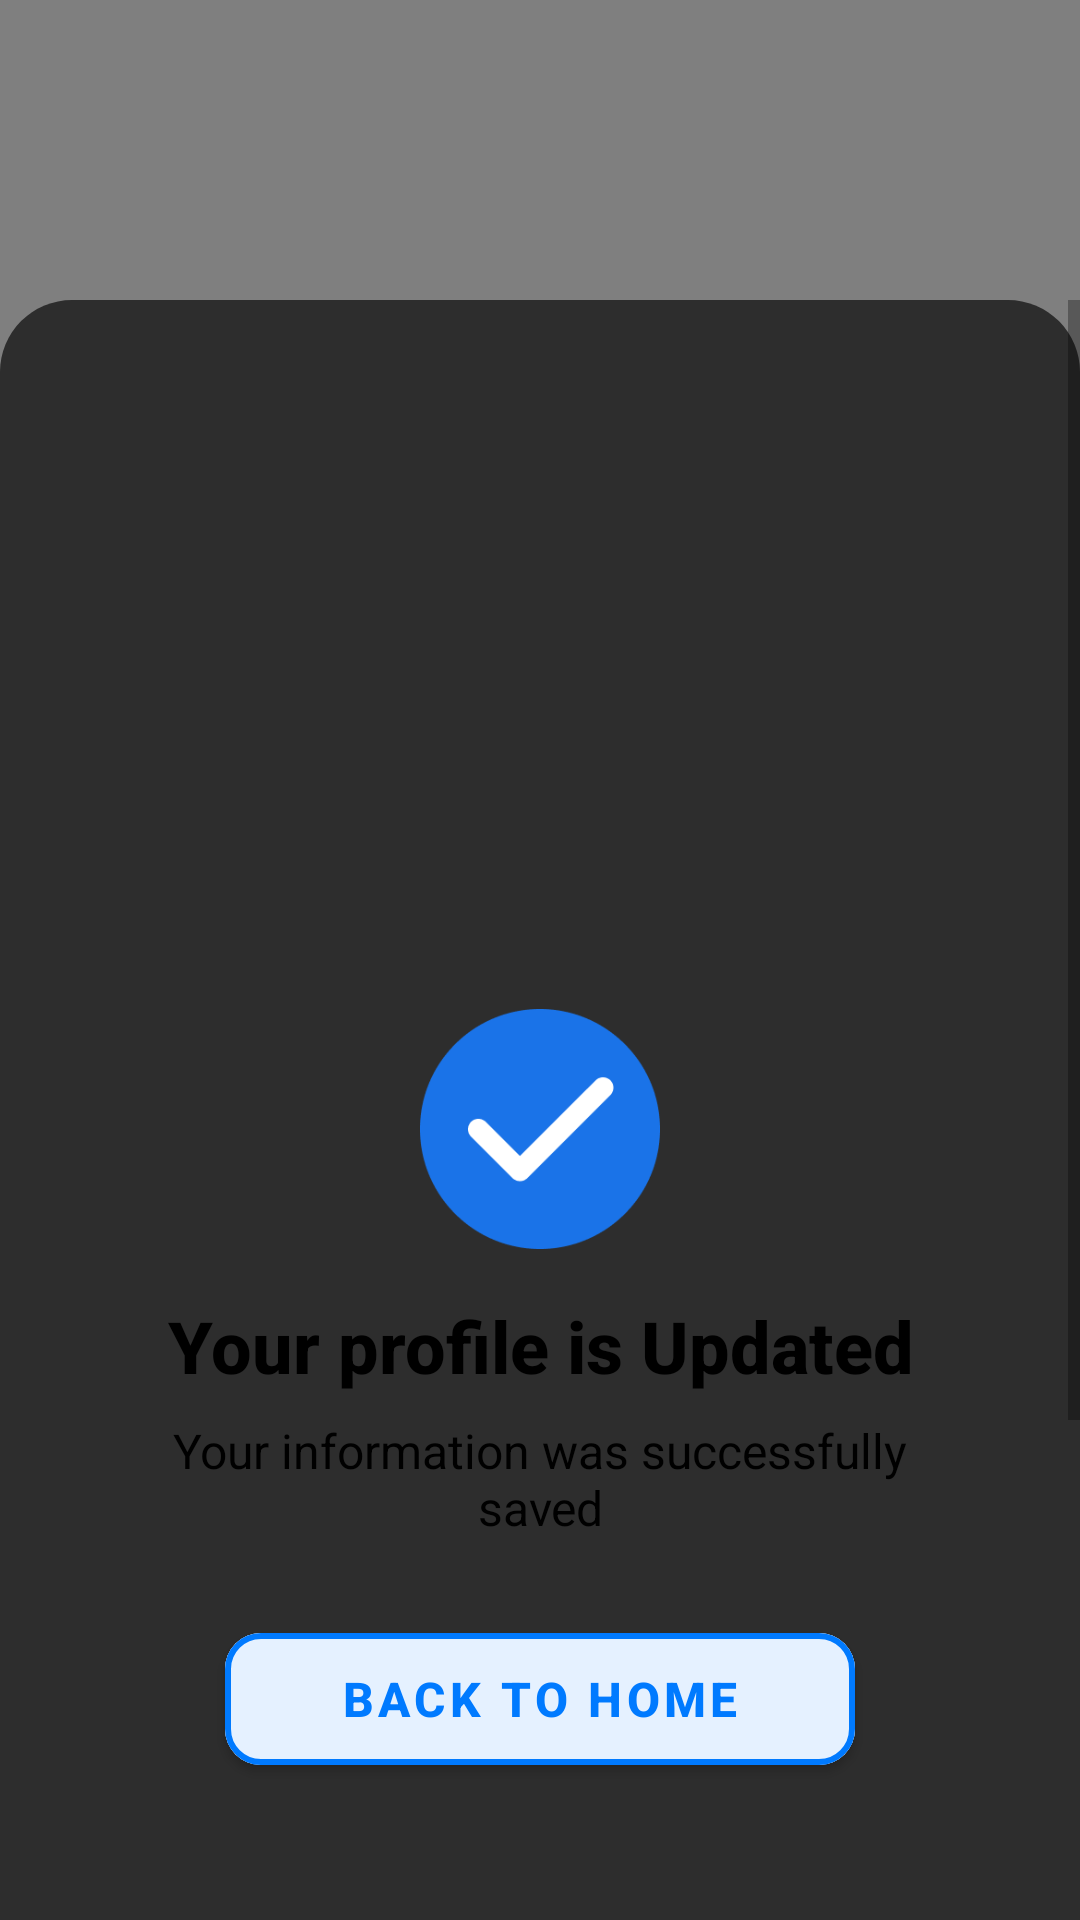

Named icons in this screenshot (1080x1920) and their bounding boxes, bbox(x1, y1, x2, y2):
tick conformation: bbox(420, 1009, 660, 1249)
